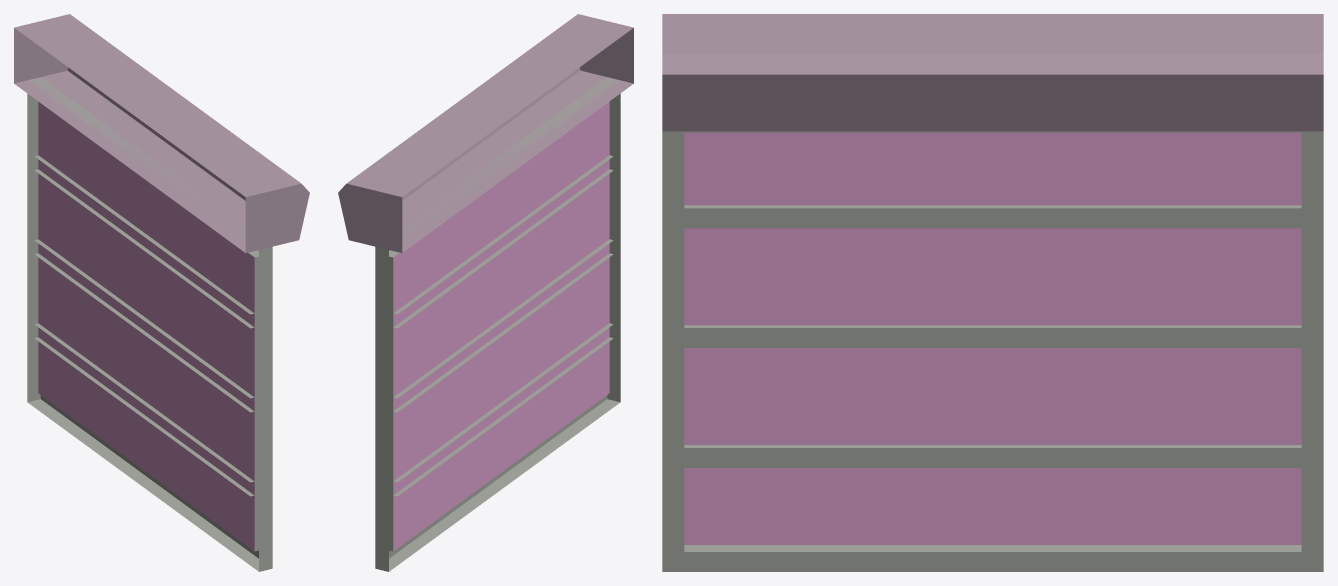
File: SM_Apt_Window.fbx
3 views of the same model, side by side, from view 1: azimuth 30°, elevation 25°; view 2: azimuth 150°, elevation 25°; view 3: azimuth 270°, elevation 25° (orthographic). The views are drawn at different scales.
Parts seen in each view (by area): view 1: SM_Apt_Window; view 2: SM_Apt_Window; view 3: SM_Apt_Window.
Boxes of the visible parts, x1,y1,x2,y2 form: SM_Apt_Window: [14, 14, 309, 571]; SM_Apt_Window: [338, 14, 633, 571]; SM_Apt_Window: [662, 14, 1323, 571].
Bounding box in the file's own units: 48 × 270 × 300.
